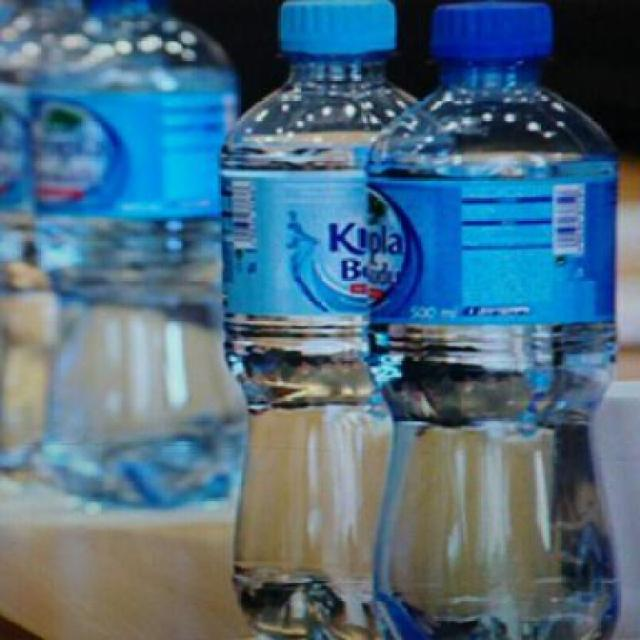bottle: (362, 0, 622, 640), (16, 0, 270, 520), (218, 0, 415, 640), (0, 16, 143, 470), (0, 0, 151, 320)
